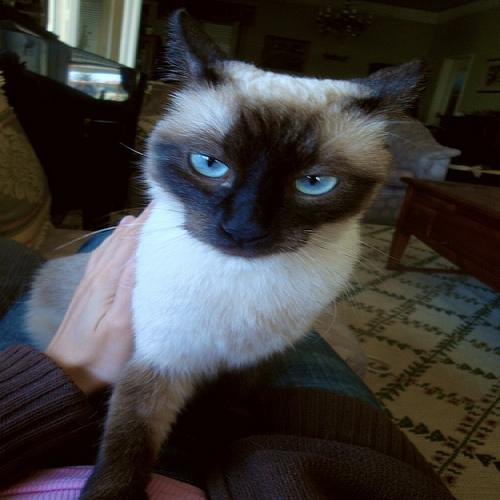siamese: (144, 1, 438, 274)
